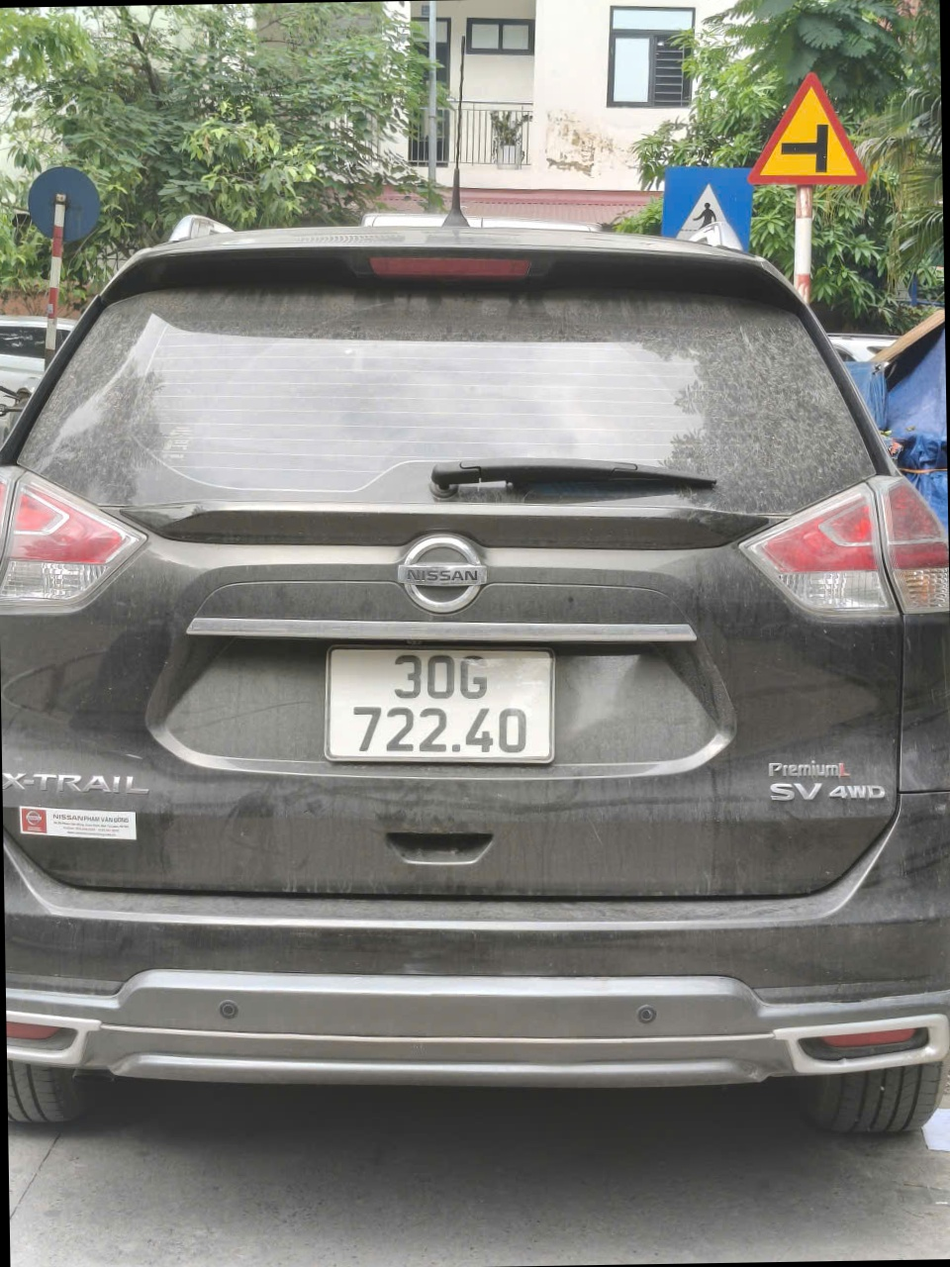plate: (453, 195, 632, 227)
